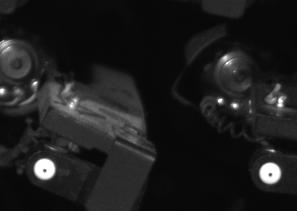fiber: (30, 154, 60, 184), (256, 159, 285, 188)
